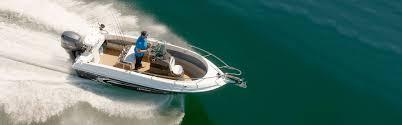fishing boat: (57, 15, 249, 97)
